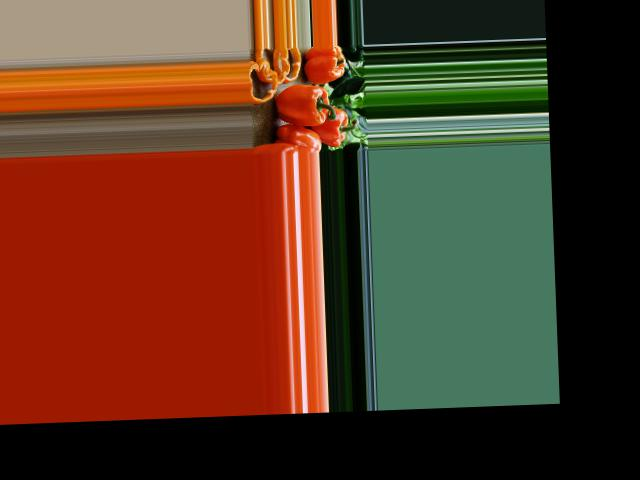bell_pepper: (272, 123, 323, 153)
